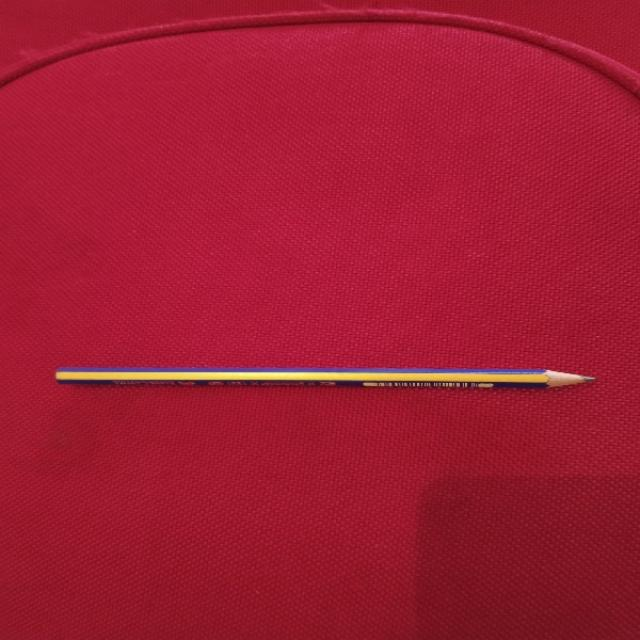pencil: (56, 368, 595, 388)
